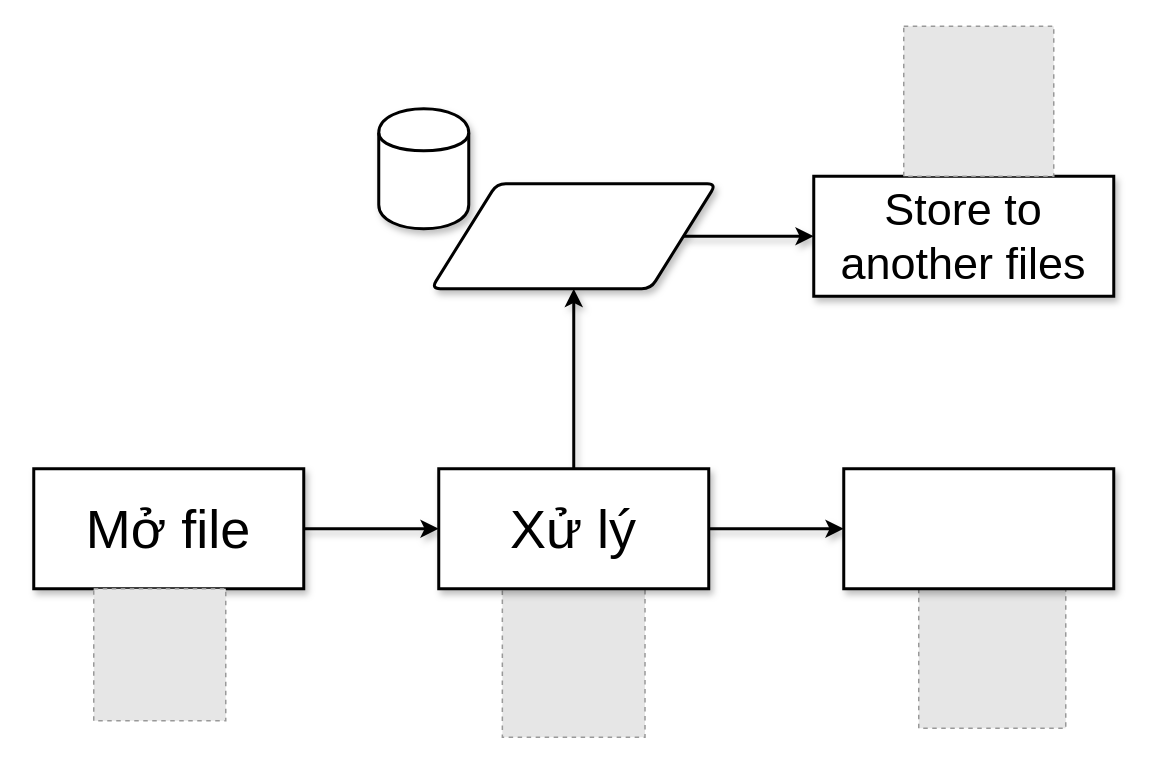
This 1149x764 diagram has some shape labels left out. Grey dashed boxes stand in for pictures. The centre of each missing label's shape, as x and y in pixels:
"Output" goes at point (574, 238).
"Đóng file" goes at point (980, 530).
